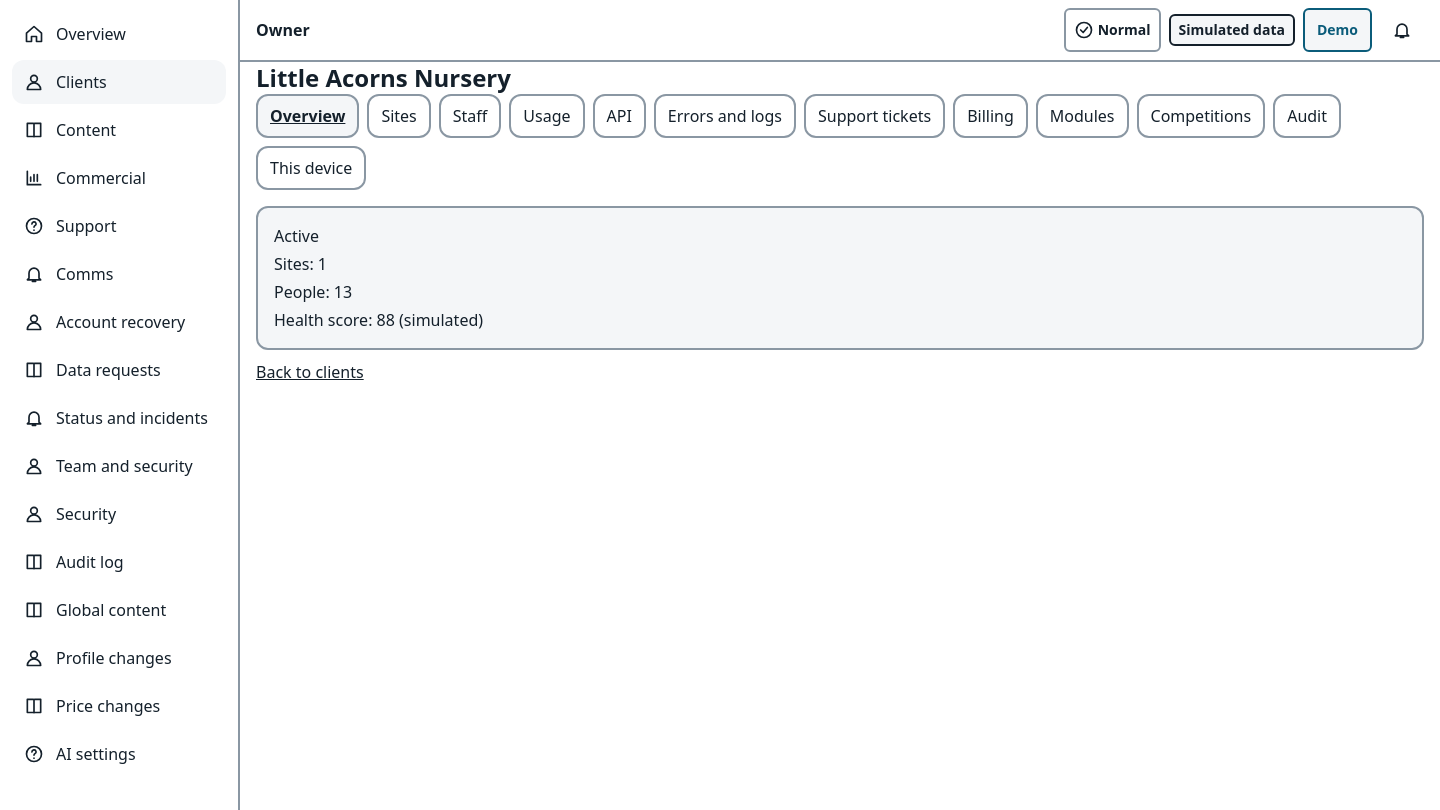
P3 Client detail › lists a locally recorded error on the This device tab
This screenshot has width=1440, height=810.
Click the tab "This device".
click(311, 168)  # box [256,146,366,190]
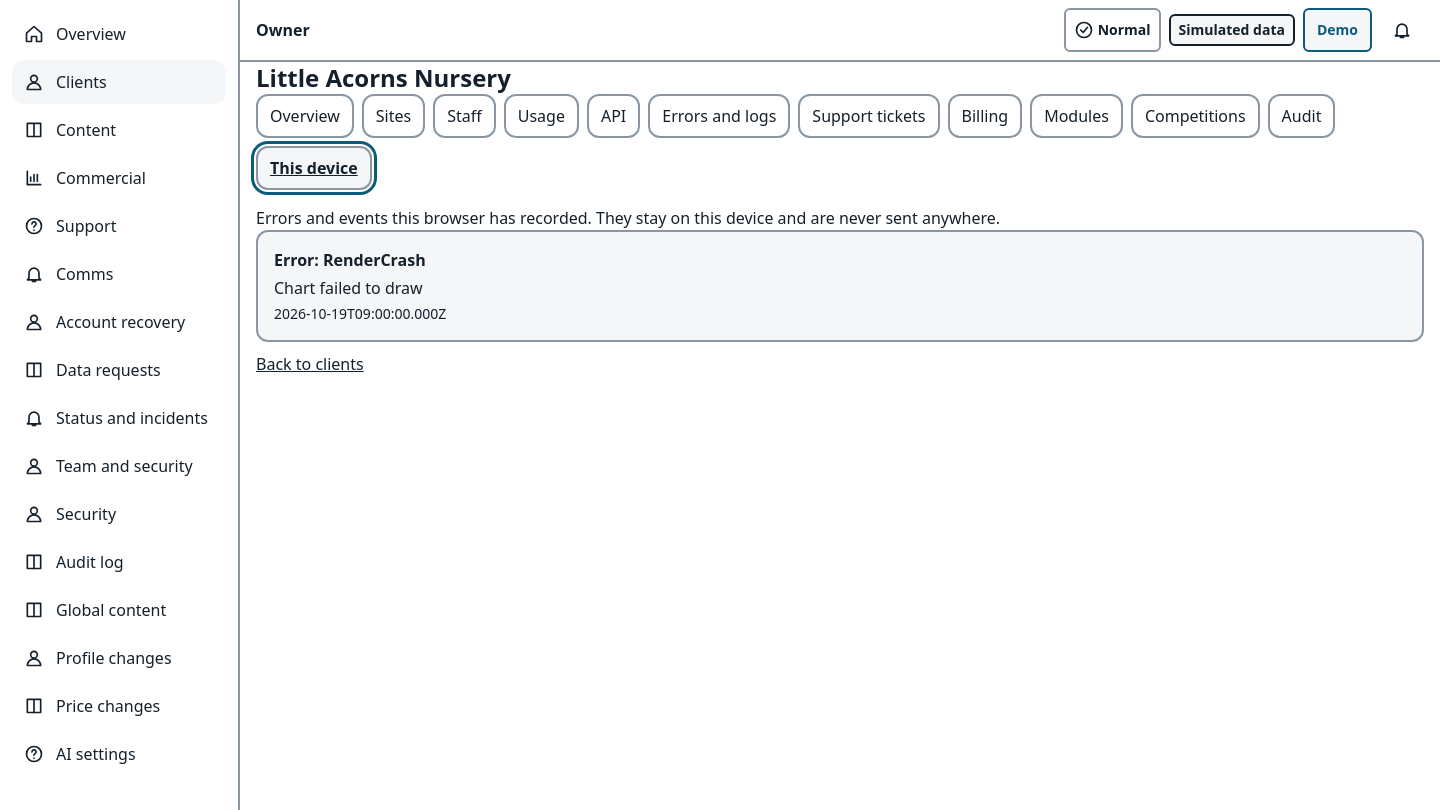
Now the list item with test id "local-telemetry-entry" shows "RenderCrash", box [274,249,426,271]
Now the list item with test id "local-telemetry-entry" shows "Chart failed to draw", box [274,277,423,299]
